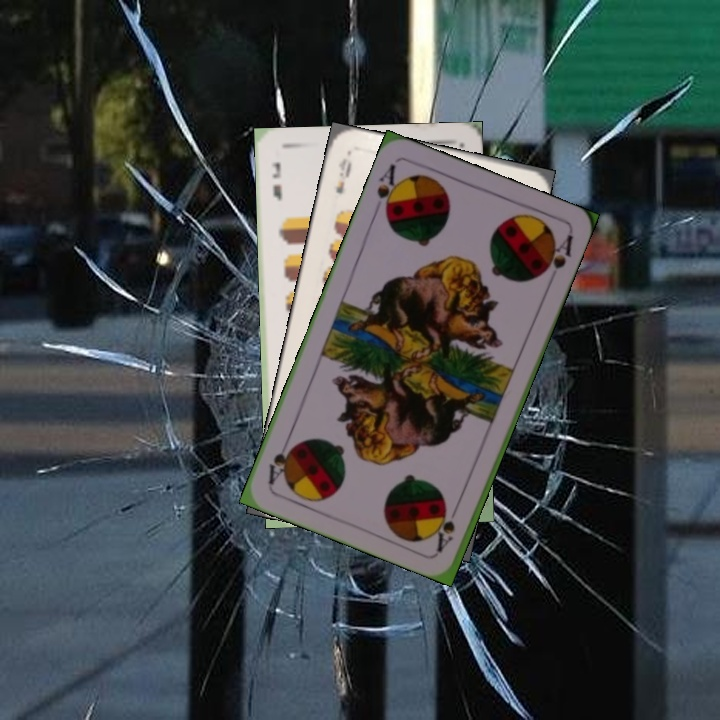E7: (268, 158, 285, 203)
E9: (331, 154, 355, 197)
SA: (373, 160, 404, 220), (433, 497, 463, 554)
